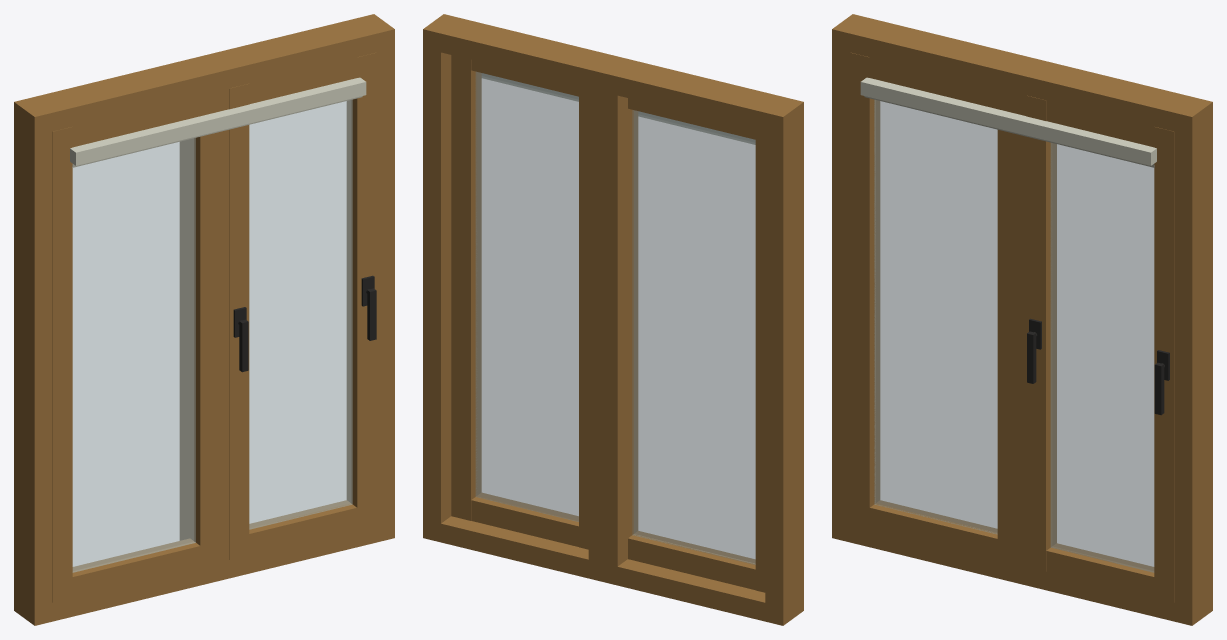
3 views of the same model, side by side, from view 1: azimuth 30°, elevation 25°; view 2: azimuth 150°, elevation 25°; view 3: azimuth 330°, elevation 25° (orthographic).
Parts seen in each view (by area): view 1: MainGlass, MainTiltGlass, Frame, SecondGlass, Mullion, MainStileHi, MainStileLo, SecondStileLo, MainRailBottom, MainBlindRail, MainRailTop, SecondRailBottom (+3 smaller); view 2: MainGlass, MainTiltGlass, Frame, SecondGlass, Mullion, MainStileHi, MainRailBottom, MainStileLo, SecondStileLo, MainRailTop, SecondRailBottom, MainBlindRail; view 3: MainGlass, MainTiltGlass, Frame, SecondGlass, MainStileLo, Mullion, SecondStileLo, MainStileHi, MainRailBottom, MainBlindRail, MainRailTop, SecondBlindRail (+5 smaller).
Part boxes in pixels (bbox=[...]): MainGlass: bbox=[73, 100, 351, 572]; MainTiltGlass: bbox=[73, 100, 351, 572]; Frame: bbox=[14, 14, 394, 625]; SecondGlass: bbox=[249, 100, 351, 528]; Mullion: bbox=[180, 88, 229, 557]; MainStileHi: bbox=[347, 52, 377, 528]; MainStileLo: bbox=[52, 127, 72, 602]; SecondStileLo: bbox=[229, 83, 249, 559]; MainRailBottom: bbox=[72, 500, 357, 597]; MainBlindRail: bbox=[70, 77, 366, 165]; MainRailTop: bbox=[72, 57, 357, 147]; SecondRailBottom: bbox=[249, 502, 356, 540]; MainGlass: bbox=[476, 72, 755, 564]; MainTiltGlass: bbox=[476, 72, 755, 564]; Frame: bbox=[423, 14, 803, 625]; SecondGlass: bbox=[476, 73, 578, 521]; Mullion: bbox=[588, 88, 637, 566]; MainStileHi: bbox=[451, 55, 481, 520]; MainRailBottom: bbox=[471, 493, 755, 589]; MainStileLo: bbox=[755, 129, 765, 592]; SecondStileLo: bbox=[579, 86, 588, 549]; MainRailTop: bbox=[471, 60, 755, 139]; SecondRailBottom: bbox=[471, 493, 578, 546]; MainBlindRail: bbox=[482, 73, 755, 142]; MainGlass: bbox=[874, 100, 1153, 572]; MainTiltGlass: bbox=[874, 100, 1153, 571]; Frame: bbox=[832, 14, 1212, 625]; SecondGlass: bbox=[1051, 143, 1153, 571]; MainStileLo: bbox=[849, 52, 879, 528]; Mullion: bbox=[997, 88, 1026, 564]; SecondStileLo: bbox=[1026, 95, 1056, 571]; MainStileHi: bbox=[1154, 127, 1174, 602]; MainRailBottom: bbox=[869, 500, 1154, 597]; MainBlindRail: bbox=[860, 77, 1156, 165]; MainRailTop: bbox=[869, 57, 1154, 147]; SecondBlindRail: bbox=[1037, 120, 1155, 165].
Size of the model in its own units: 1 by 1.35 by 0.13.
